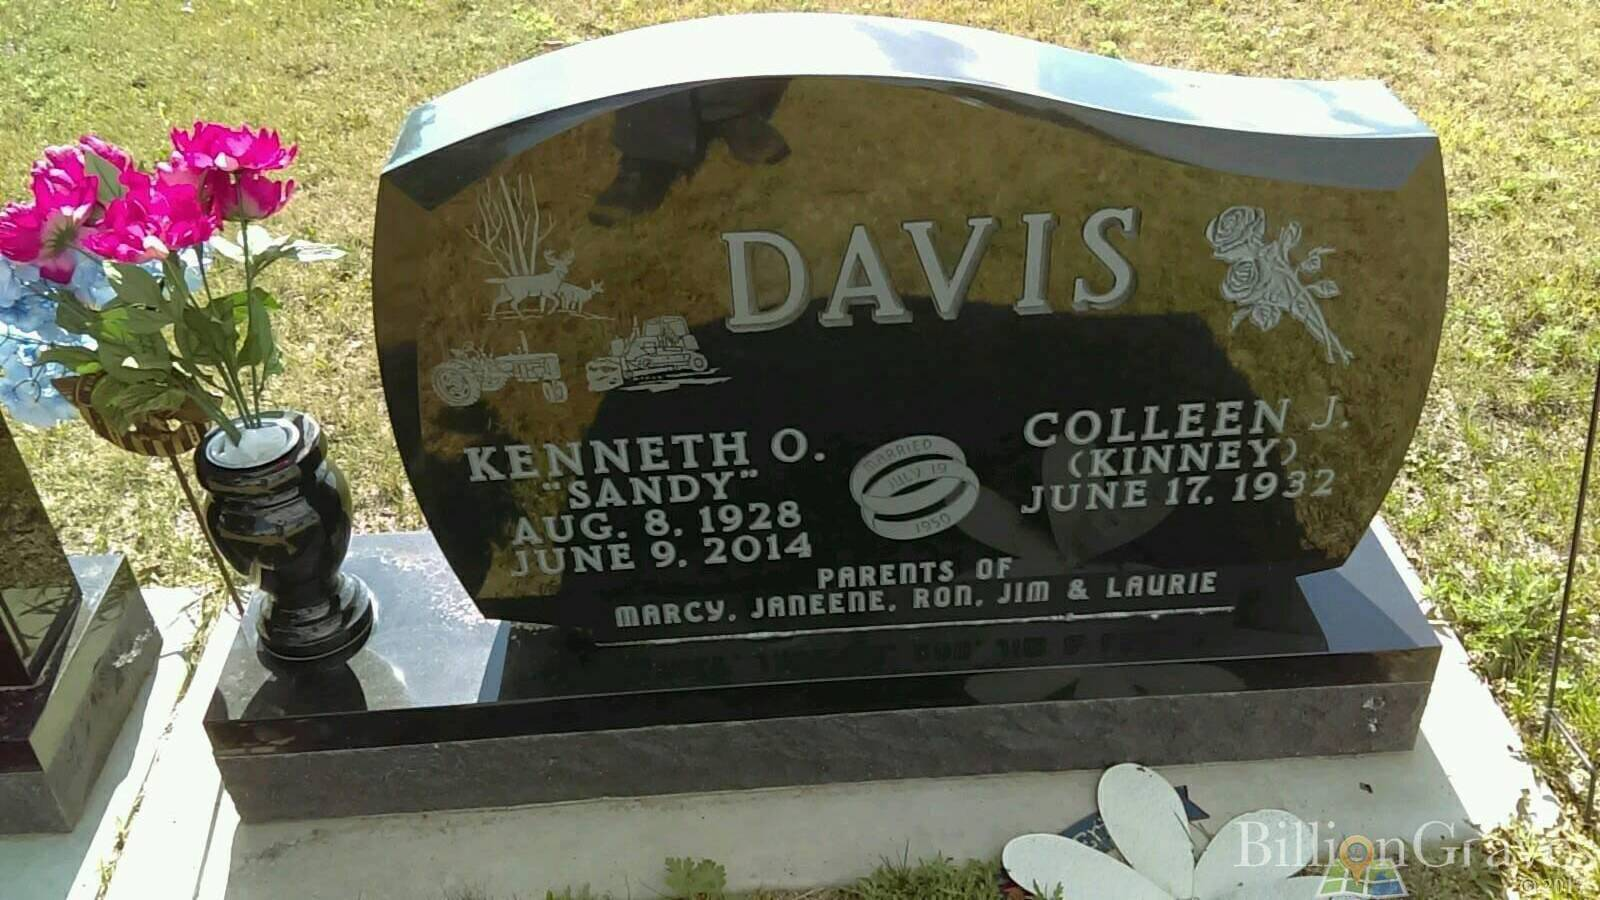upright: (209, 15, 1446, 829)
